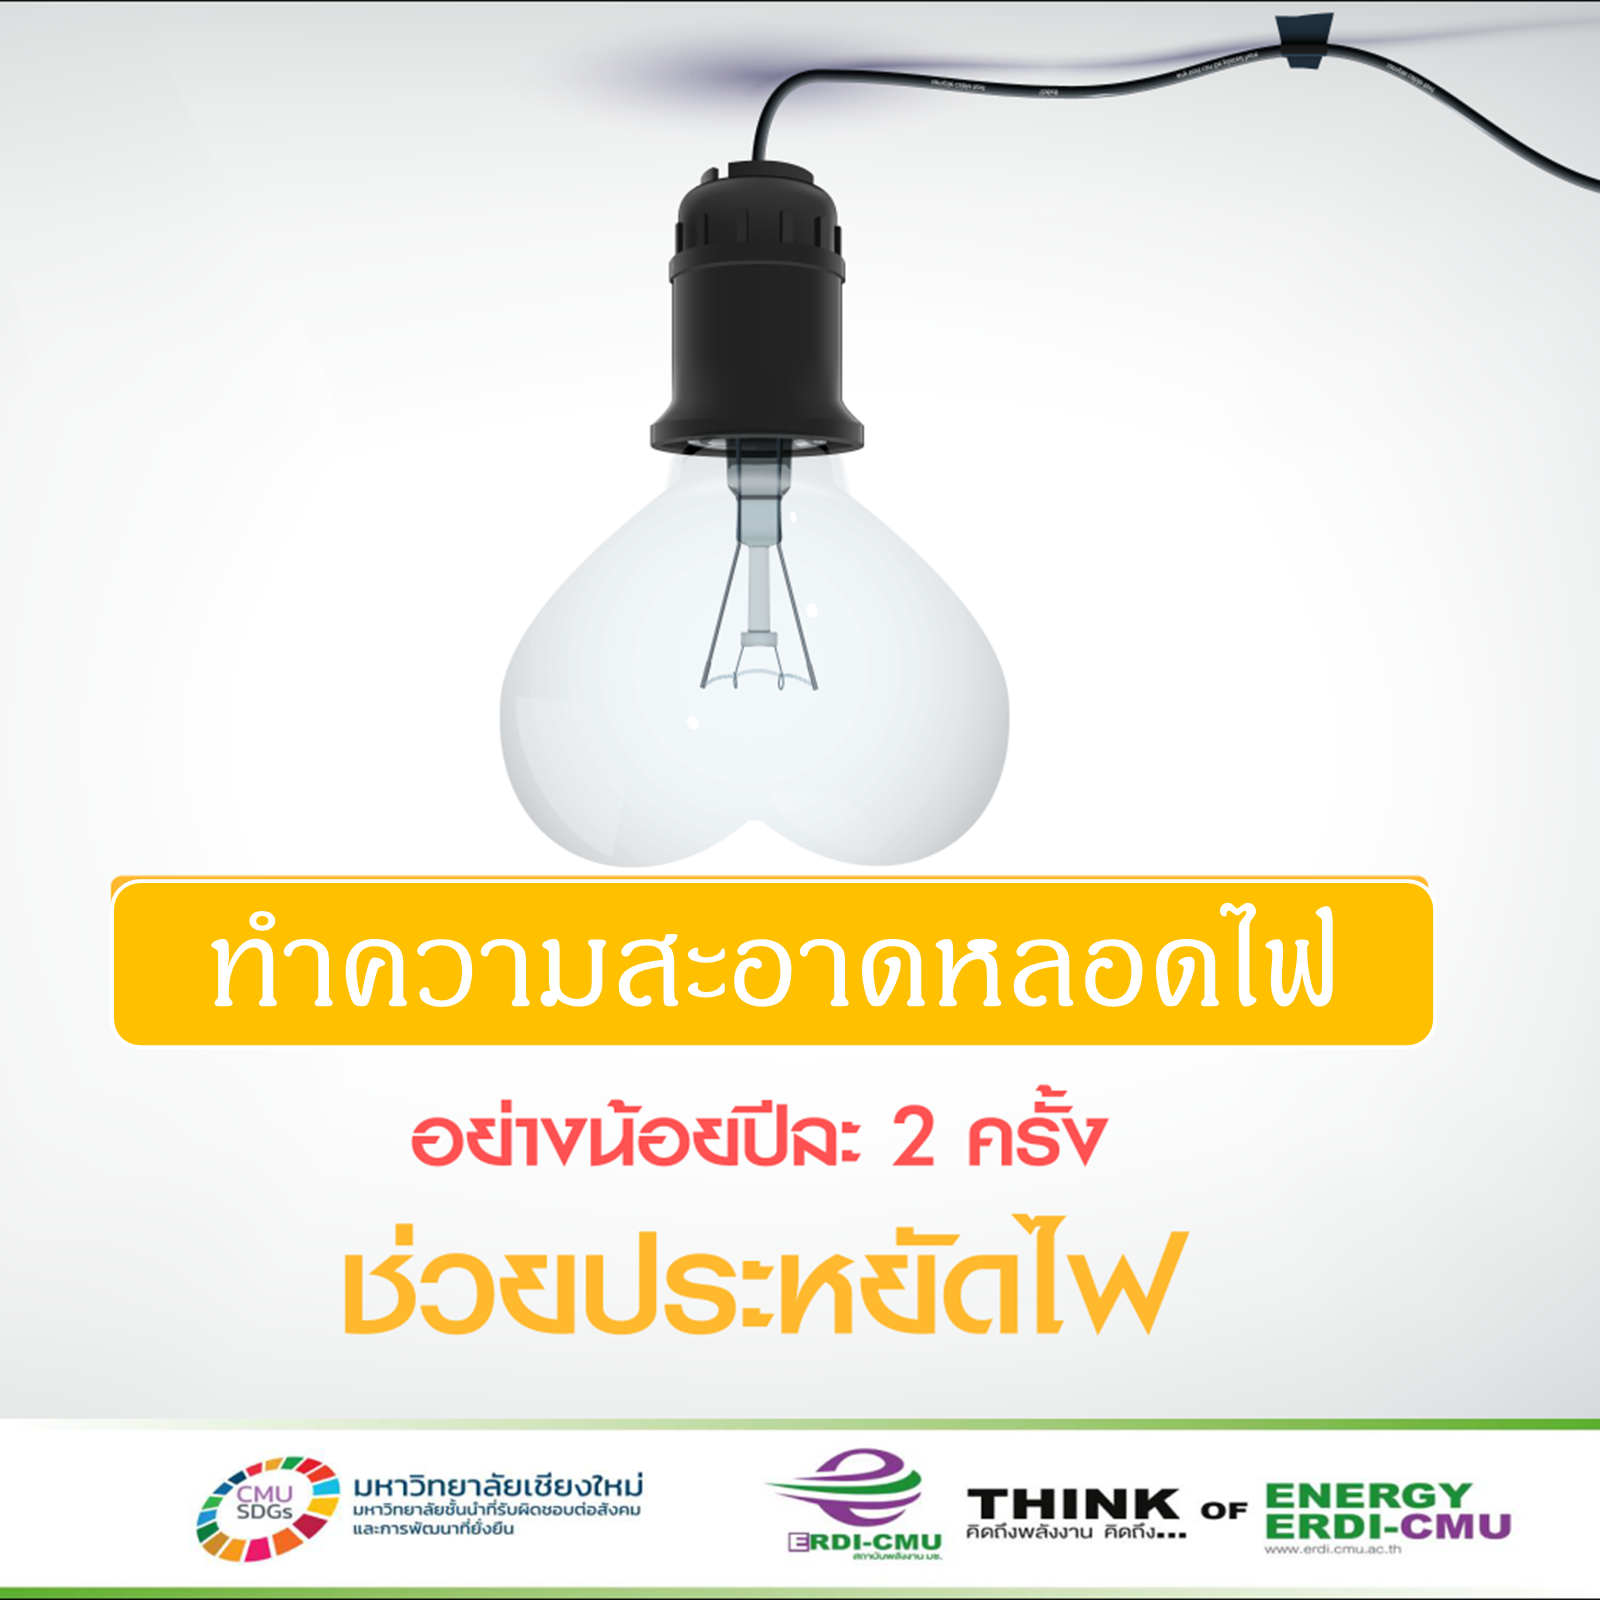Light_bulb: (486, 416, 1029, 882)
